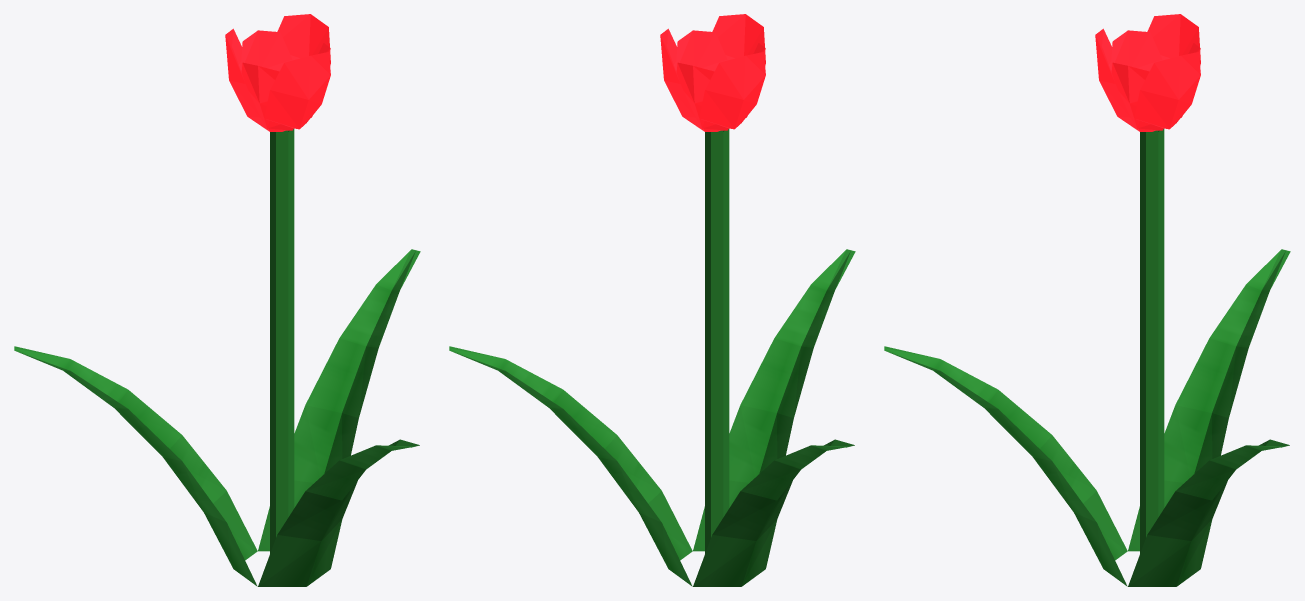
Rendered from Tulip3.glb.
3 renders of one model, left to right at view 1: azimuth 30°, elevation 25°; view 2: azimuth 150°, elevation 25°; view 3: azimuth 270°, elevation 25°, orthographic.
Visible parts, largest first — view 1: Leaves, Stem, Petals; view 2: Leaves, Stem, Petals; view 3: Leaves, Stem, Petals.
Part boxes in pixels (x1,y1,x2,y2): Leaves: [14, 249, 420, 586]; Stem: [270, 129, 294, 553]; Petals: [225, 14, 330, 131]; Leaves: [449, 249, 855, 586]; Stem: [705, 129, 729, 553]; Petals: [660, 14, 765, 131]; Leaves: [884, 249, 1290, 586]; Stem: [1140, 129, 1164, 553]; Petals: [1095, 14, 1200, 131].
Size of the model in its own units: 0.4817 by 0.605 by 0.4172.
Materials: 3 (1 with a texture image).
